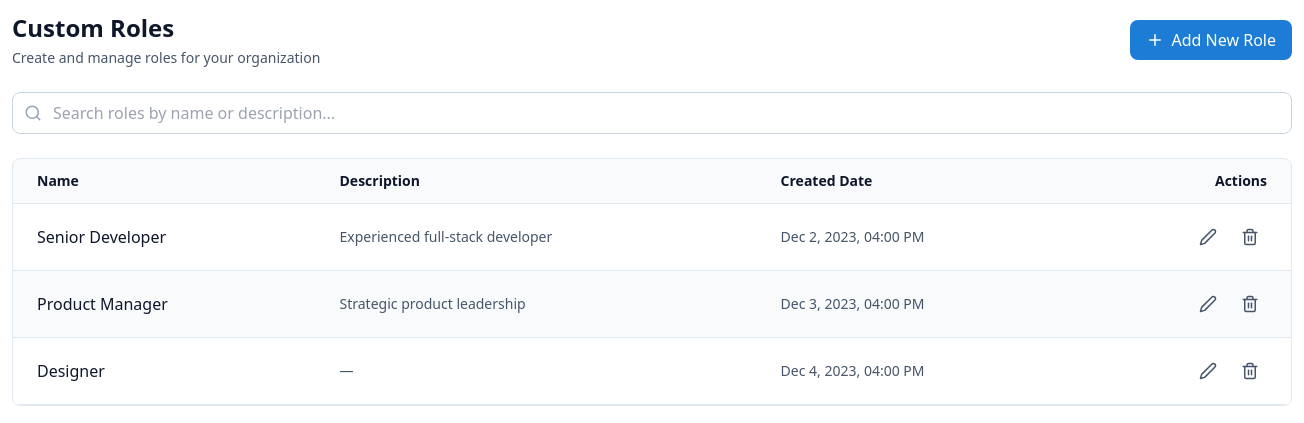
Scenario: RoleManagementPanel › Search and Filter Functionality › filters roles by name when searching
This screenshot has width=1304, height=423.
Type "Senior" into the field with placeholder "Search roles by name or description...". click: (652, 113)
box: [12,92,1292,134]
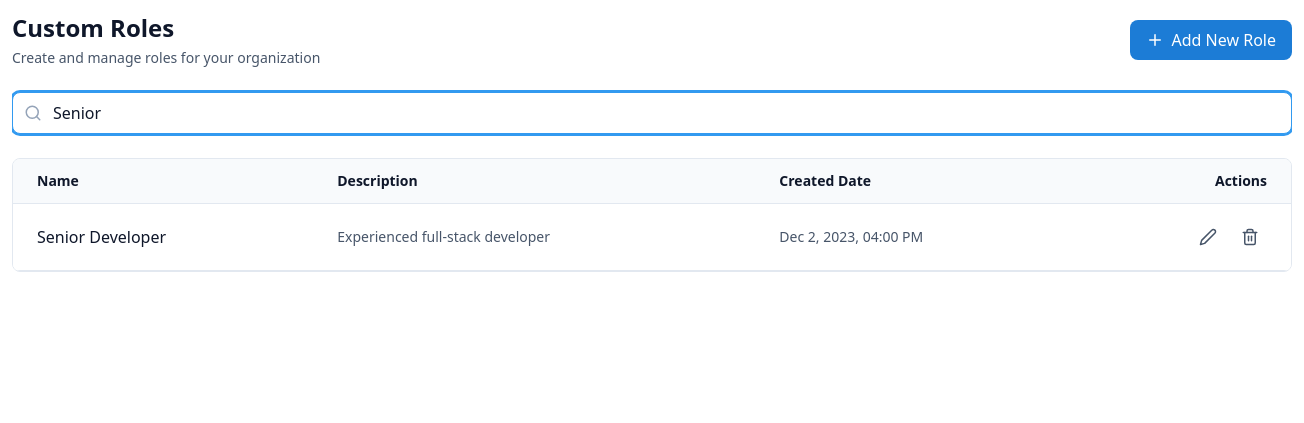
Check: the text "Senior Developer" is shown, box [37,226,166,248]
Check: the text "Product Manager" is gone
